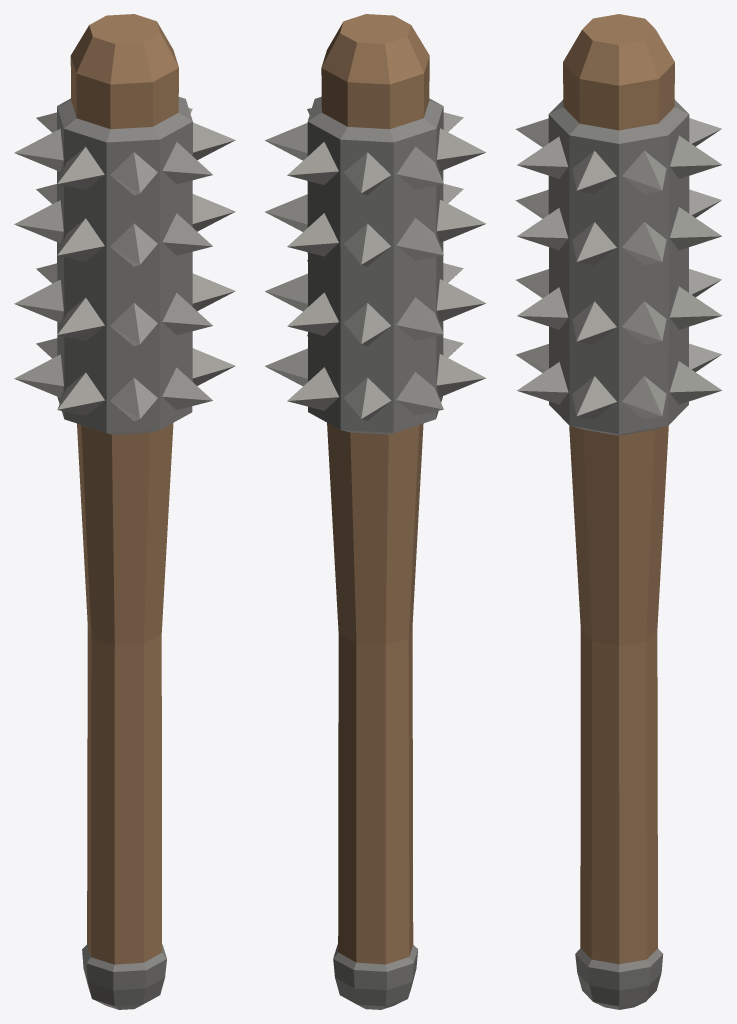
File: SM_pwe_medieval_club_07b.fbx
3 views of the same model, side by side, from view 1: azimuth 30°, elevation 25°; view 2: azimuth 150°, elevation 25°; view 3: azimuth 270°, elevation 25° (orthographic).
Parts seen in each view (by area): view 1: SM_pwe_medieval_club_07b; view 2: SM_pwe_medieval_club_07b; view 3: SM_pwe_medieval_club_07b.
Boxes of the visible parts, x1=… form: SM_pwe_medieval_club_07b: x1=14, y1=14, x2=235, y2=1009; SM_pwe_medieval_club_07b: x1=265, y1=14, x2=486, y2=1009; SM_pwe_medieval_club_07b: x1=515, y1=14, x2=722, y2=1009.
Size of the model in its own units: 12.12 by 62.73 by 12.12.
